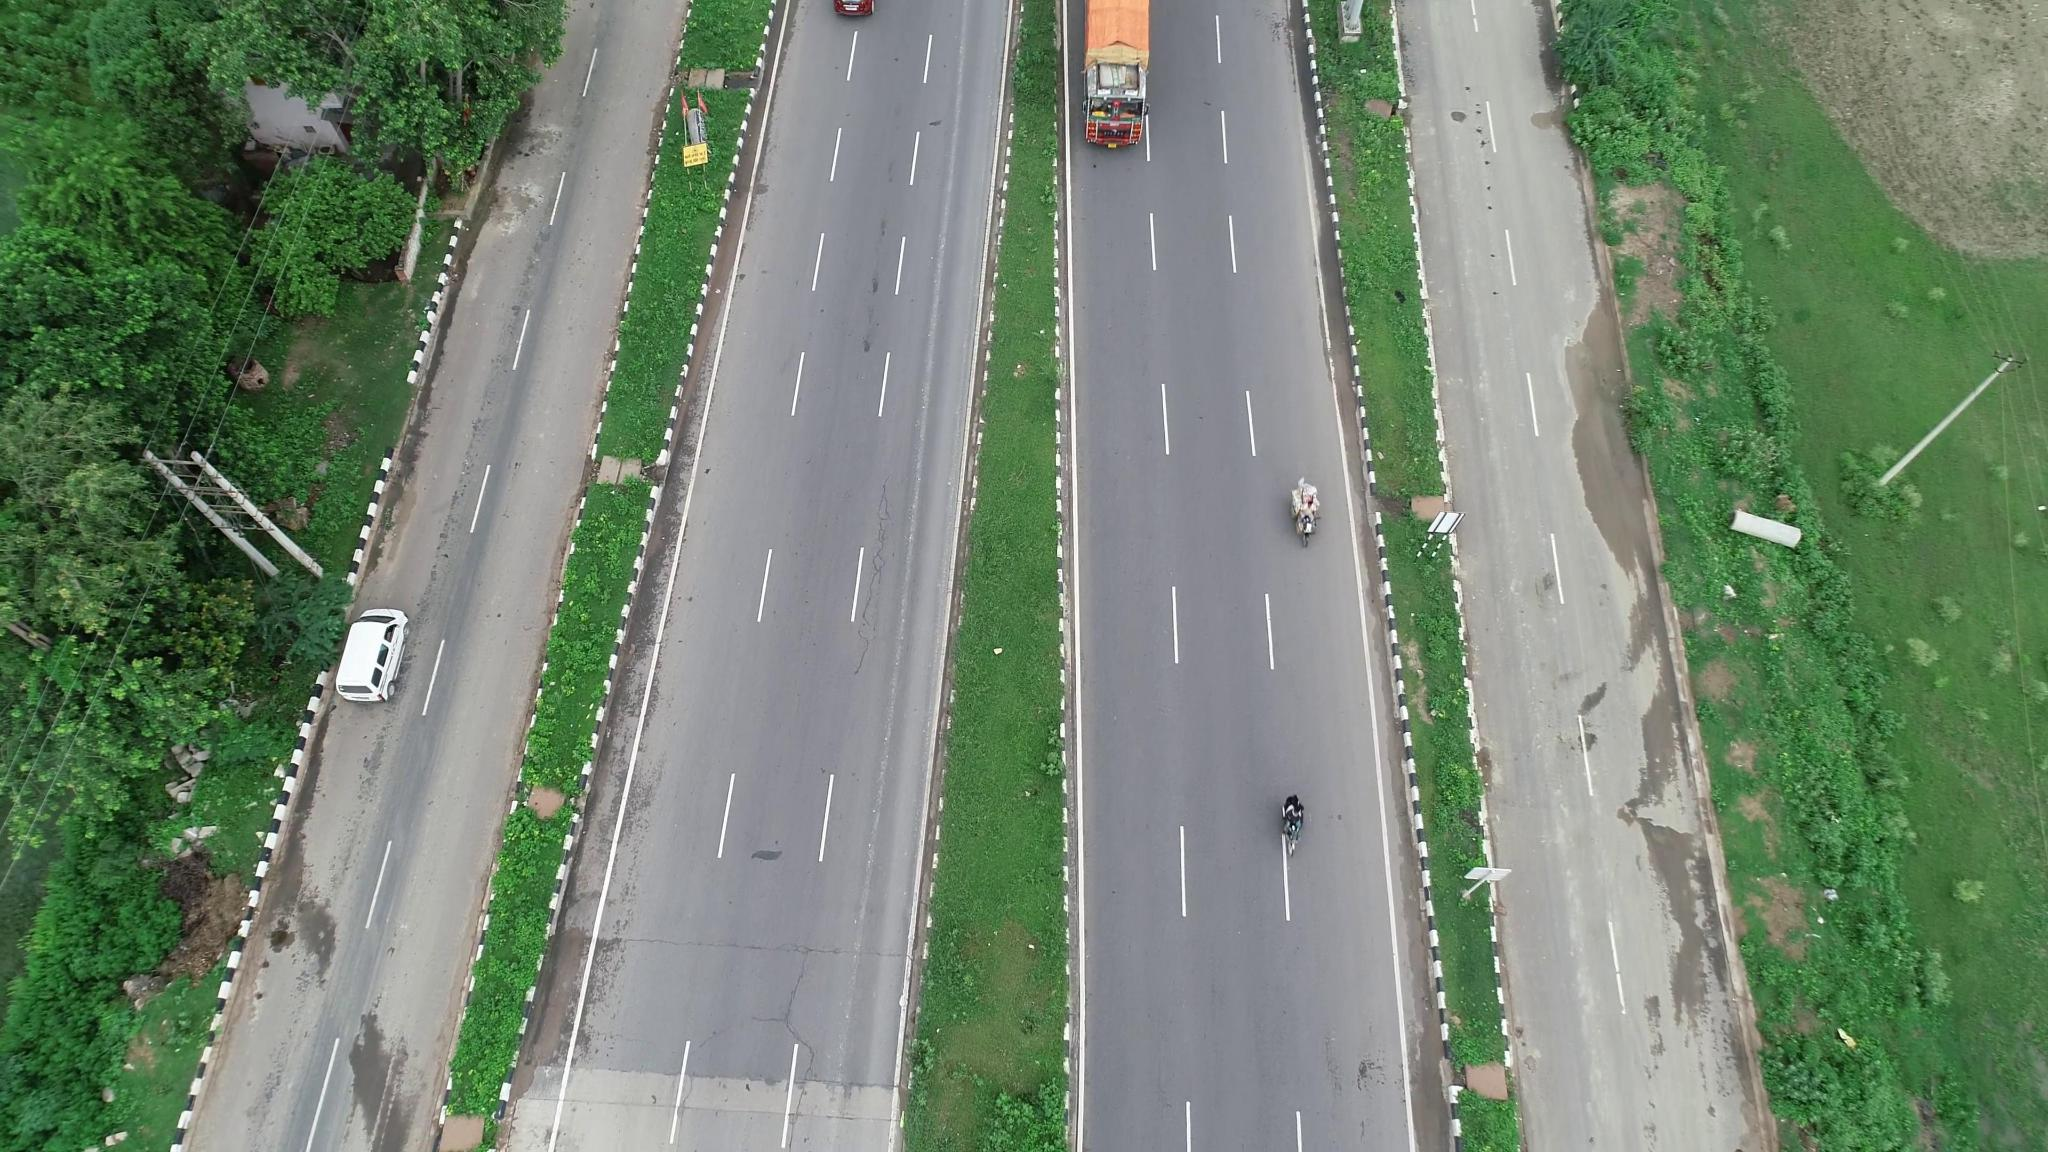Cracks: (850, 482, 903, 665)
